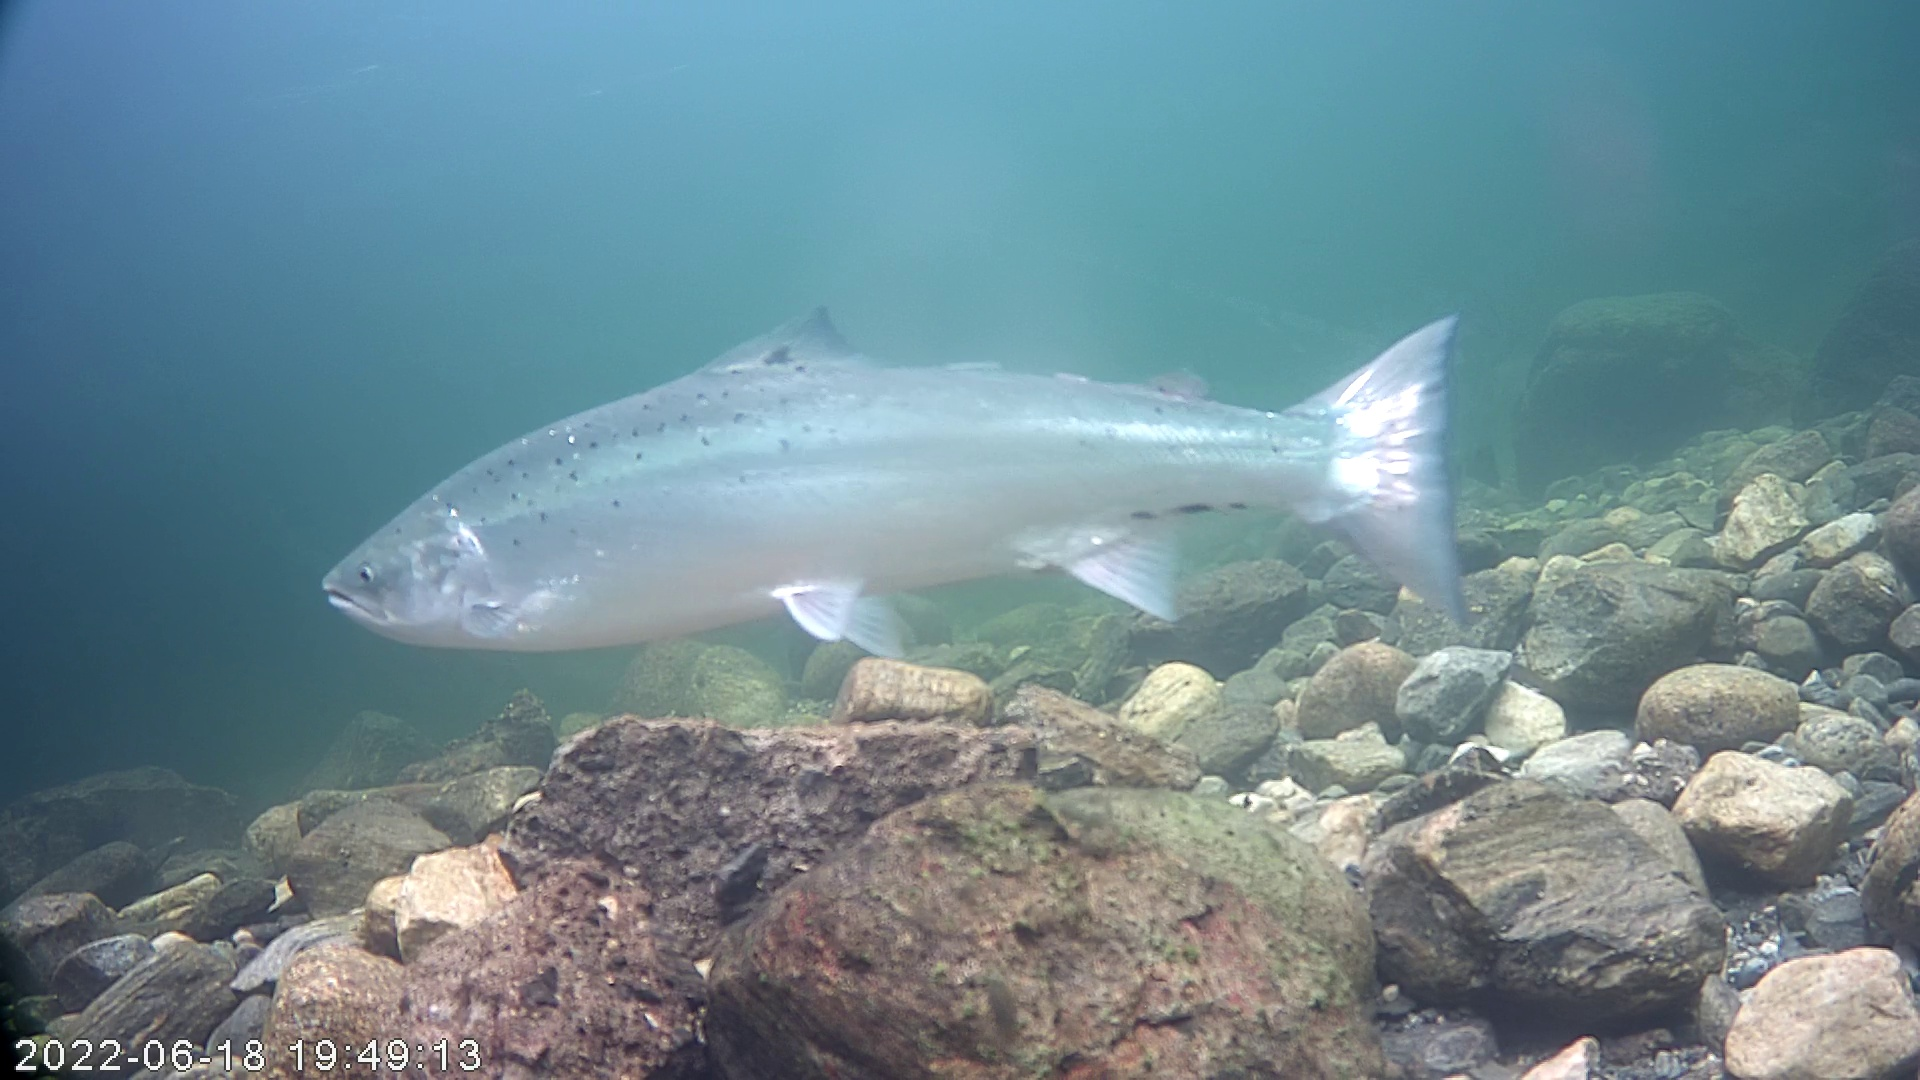salmon: (315, 301, 1472, 662)
